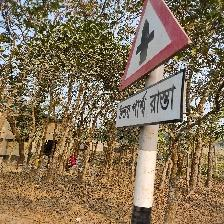Crossroad: (101, 0, 196, 134)
